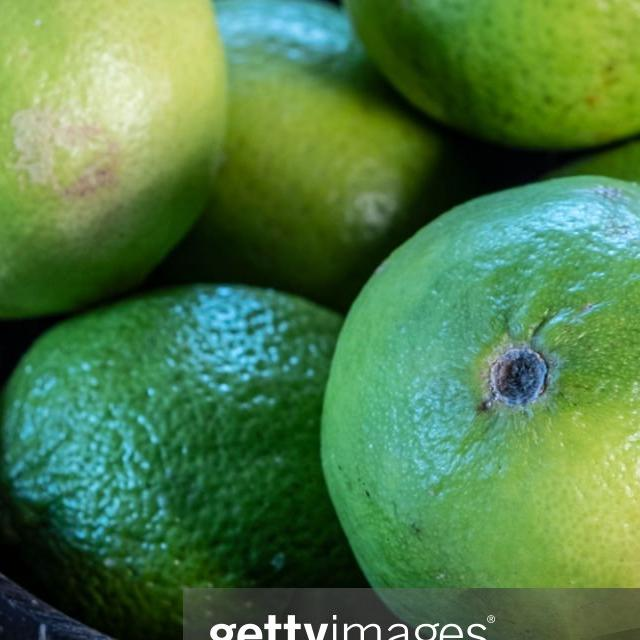lime: (0, 286, 346, 640)
